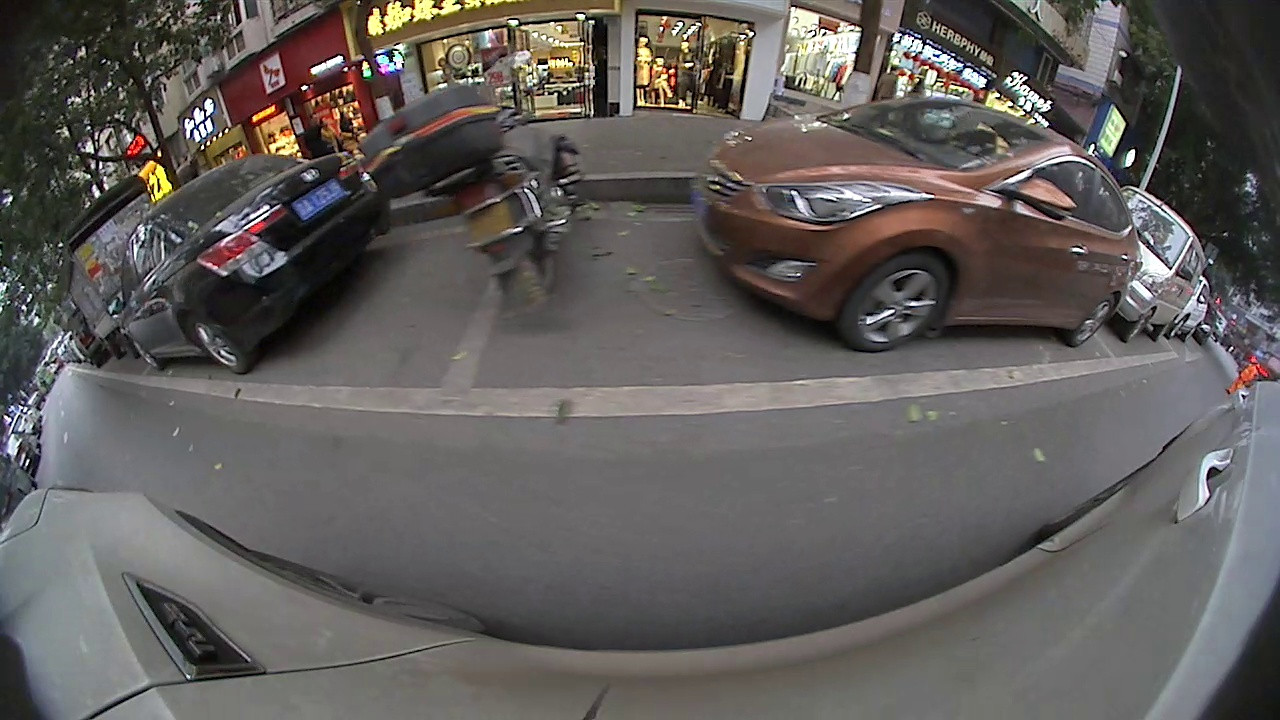car: (691, 93, 1143, 356), (102, 149, 392, 378), (1105, 184, 1207, 346)
front: (846, 257, 952, 351)
rear: (185, 323, 252, 375), (1070, 294, 1118, 351)
rider: (356, 61, 589, 319)
truck: (56, 172, 159, 365)
